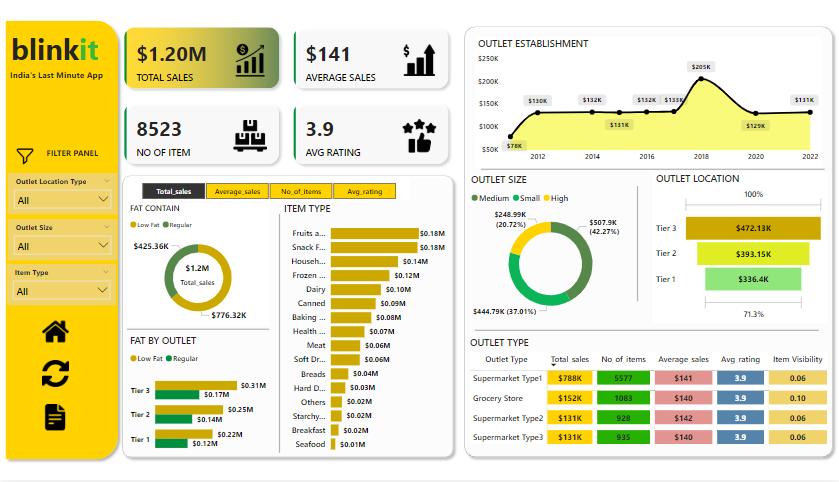

What the dashboard file says about the page in this screenshot:
{"tool":"powerbi","page":{"name":"Page 1","canvas":[1400,800],"ordinal":0},"visuals":[{"type":"shape","box":[0,25.7,205.8,749.6],"z":0},{"type":"textbox","box":[12.9,44.1,178.2,86.4],"z":1000},{"type":"textbox","box":[11,110.2,183.7,38.6],"z":2000},{"type":"cardVisual","fields":{"Data":["Measure.Total_sales","Measure.Average_sales","Measure.No_of_items","Measure.Avg_rating"]},"box":[190.4,28.8,574.4,262.4],"z":3000},{"type":"shape","box":[195.2,283.2,569.6,488],"z":4000},{"type":"donutChart","title":"FAT CONTAIN ","fields":{"Y":["Measure.Total_sales"],"Category":["BlinkIT Grocery Data.Item Fat Content"]},"box":[211.2,337.6,236.8,204.8],"z":5000},{"type":"slicer","fields":{"Values":["Metrics .Metrics "]},"box":[211.9,298,472.2,36.1],"z":6000},{"type":"card","fields":{"Values":["Measure.Total_sales"]},"box":[283.2,432,91.2,49.6],"z":7000},{"type":"clusteredBarChart","title":"FAT BY OUTLET ","fields":{"Y":["Measure.Total_sales"],"Category":["BlinkIT Grocery Data.Outlet Location Type"],"Series":["BlinkIT Grocery Data.Item Fat Content"]},"box":[211.2,556.8,236.8,212.8],"z":8000},{"type":"shape","box":[211.2,537.6,236.8,20.8],"z":9000},{"type":"shape","box":[446.4,356.8,38.4,398.4],"z":10000},{"type":"barChart","title":"ITEM TYPE ","fields":{"Y":["Measure.Total_sales"],"Category":["BlinkIT Grocery Data.Item Type"]},"box":[468.8,336,278.4,427.2],"z":11000},{"type":"shape","box":[764.8,35.2,632,736],"z":12000},{"type":"lineChart","title":"OUTLET ESTABLISHMENT ","fields":{"Y":["Measure.Total_sales"],"Category":["BlinkIT Grocery Data.Outlet Establishment Year"]},"box":[792,62.4,577.6,217.6],"z":13000},{"type":"shape","box":[801.6,273.6,572.8,17.6],"z":14000},{"type":"donutChart","title":"OUTLET SIZE","fields":{"Y":["Measure.Total_sales"],"Category":["BlinkIT Grocery Data.Outlet Size"]},"box":[779.2,288,275.2,252.8],"z":15000},{"type":"shape","box":[1043.2,310.4,38.4,192],"z":16000},{"type":"funnel","title":"OUTLET LOCATION ","fields":{"Category":["BlinkIT Grocery Data.Outlet Location Type"],"Y":["Measure.Total_sales"]},"box":[1088,286.4,289.6,251.2],"z":17000},{"type":"shape","box":[792,542.4,572.8,17.6],"z":18000},{"type":"pivotTable","title":"OUTLET TYPE ","fields":{"Rows":["BlinkIT Grocery Data.Outlet Type"],"Values":["Measure.Total_sales","Measure.No_of_items","Measure.Average_sales","Measure.Avg_rating","Avg(BlinkIT Grocery Data.Item Visibility)"]},"box":[777.6,560,622.4,217.6],"z":19000},{"type":"slicer","fields":{"Values":["BlinkIT Grocery Data.Outlet Location Type"]},"box":[12.8,288,182.4,68.8],"z":20000},{"type":"slicer","fields":{"Values":["BlinkIT Grocery Data.Outlet Size"]},"box":[12.8,364.8,182.4,68.8],"z":21000},{"type":"slicer","fields":{"Values":["BlinkIT Grocery Data.Item Type"]},"box":[11.2,440,182.4,68.8],"z":21001},{"type":"textbox","box":[38.4,241.6,168,38.4],"z":21002},{"type":"image","box":[12.8,238.4,56,43.2],"z":21003},{"type":"image","box":[65.6,668.8,54.4,54.4],"z":21004},{"type":"image","box":[65.6,595.2,55,55],"z":21005},{"type":"image","box":[65.6,524.8,55,55],"z":21006}]}

Visuals, with their boxes in screenshot pixels (x1, y1, x2, y2), scaled from the page's 1400x800 canvas onto the 839x482 screenshot:
shape: 0,15,123,467
textbox: 8,27,115,79
textbox: 7,66,117,90
cardVisual - Measure.Total_sales x Measure.Average_sales: 114,17,458,175
shape: 117,171,458,465
"FAT CONTAIN " donutChart: 127,203,268,327
slicer - Metrics .Metrics : 127,180,410,201
card - Measure.Total_sales: 170,260,224,290
"FAT BY OUTLET " clusteredBarChart: 127,335,268,464
shape: 127,324,268,336
shape: 268,215,291,455
"ITEM TYPE " barChart: 281,202,448,460
shape: 458,21,837,465
"OUTLET ESTABLISHMENT " lineChart: 475,38,821,169
shape: 480,165,824,175
"OUTLET SIZE" donutChart: 467,174,632,326
shape: 625,187,648,303
"OUTLET LOCATION " funnel: 652,173,826,324
shape: 475,327,818,337
"OUTLET TYPE " pivotTable: 466,337,838,469
slicer - BlinkIT Grocery Data.Outlet Location Type: 8,174,117,215
slicer - BlinkIT Grocery Data.Outlet Size: 8,220,117,261
slicer - BlinkIT Grocery Data.Item Type: 7,265,116,307
textbox: 23,146,124,169
image: 8,144,41,170
image: 39,403,72,436
image: 39,359,72,392
image: 39,316,72,349
